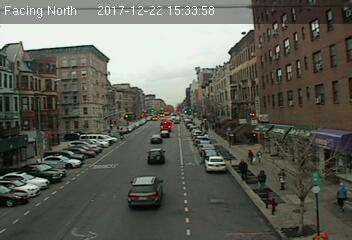car: (127, 175, 166, 207), (206, 156, 227, 173), (146, 147, 167, 163), (149, 135, 162, 143)
pedestrian: (334, 179, 347, 216), (236, 156, 249, 184), (277, 167, 288, 193), (257, 168, 267, 195)
